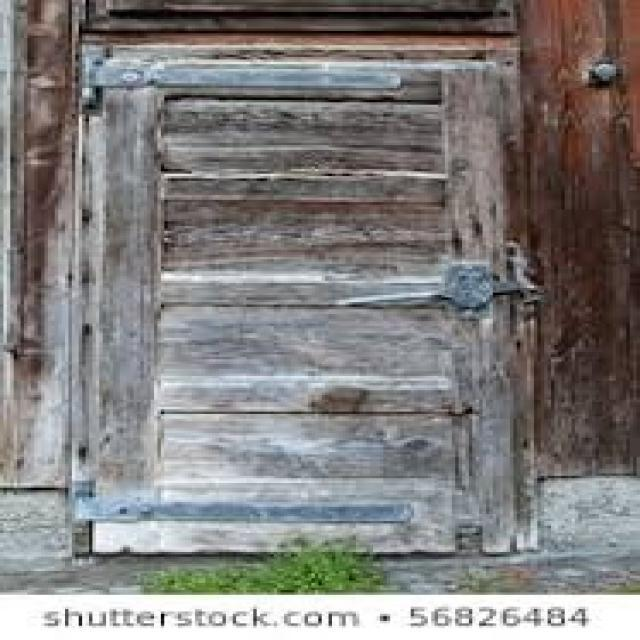Door: (82, 48, 524, 548)
